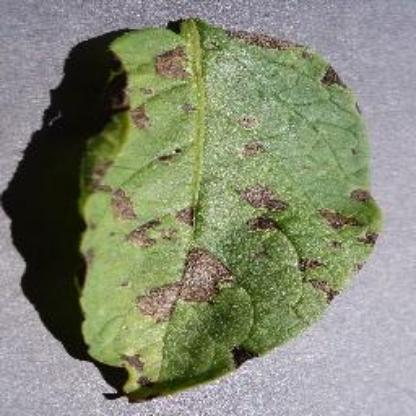Early-Blight: (66, 11, 386, 406)
